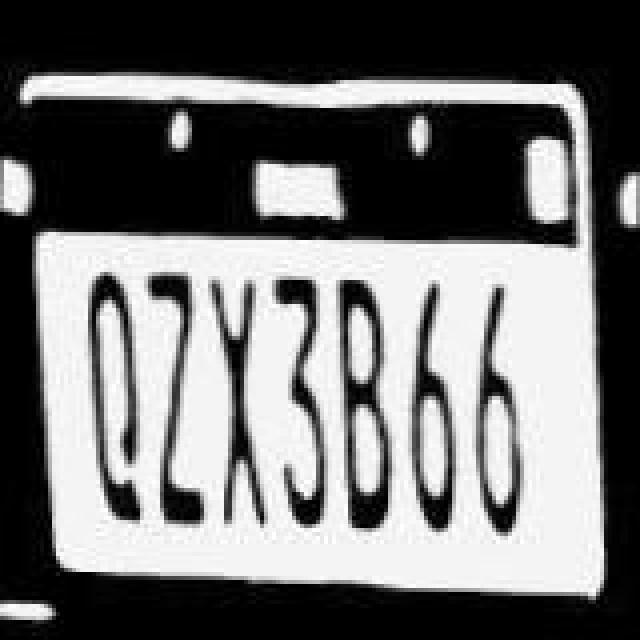3: (276, 274, 332, 534)
6: (464, 280, 536, 544), (398, 278, 466, 542)
B: (330, 272, 398, 536)
Q: (74, 266, 142, 526)
X: (206, 274, 274, 530)
Z: (144, 266, 208, 530)
